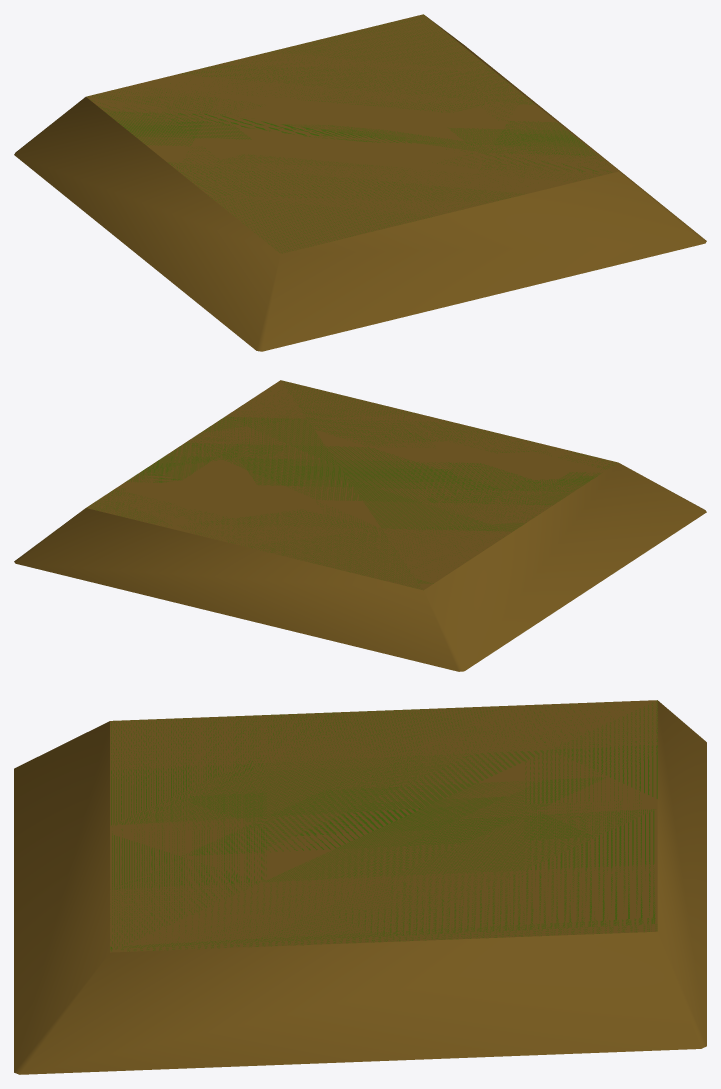
File: original-45.obj
3 renders of one model, top to bottom at view 1: azimuth 30°, elevation 25°; view 2: azimuth 150°, elevation 25°; view 3: azimuth 270°, elevation 25°, orthographic. The views are drawn at different scales.
Visible parts, largest first — view 1: Group45/mesh43/mesh43-geometry#mesh43-geometry; view 2: Group45/mesh43/mesh43-geometry#mesh43-geometry; view 3: Group45/mesh43/mesh43-geometry#mesh43-geometry.
Boxes of the visible parts, box(x1,y1,x2,y2) form: Group45/mesh43/mesh43-geometry#mesh43-geometry: box(14, 14, 706, 351); Group45/mesh43/mesh43-geometry#mesh43-geometry: box(14, 380, 706, 671); Group45/mesh43/mesh43-geometry#mesh43-geometry: box(14, 700, 706, 1074).
Size of the model in its own units: 0.0754 by 0.0119 by 0.0715.
